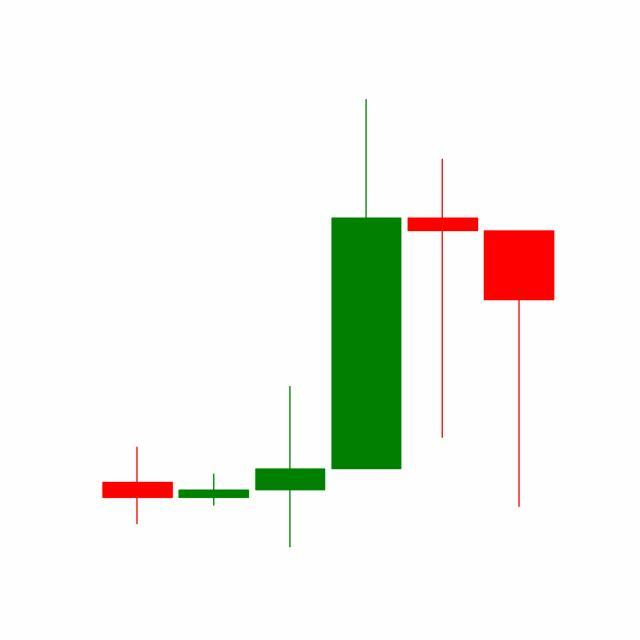Spinning Top: (404, 156, 482, 442)
